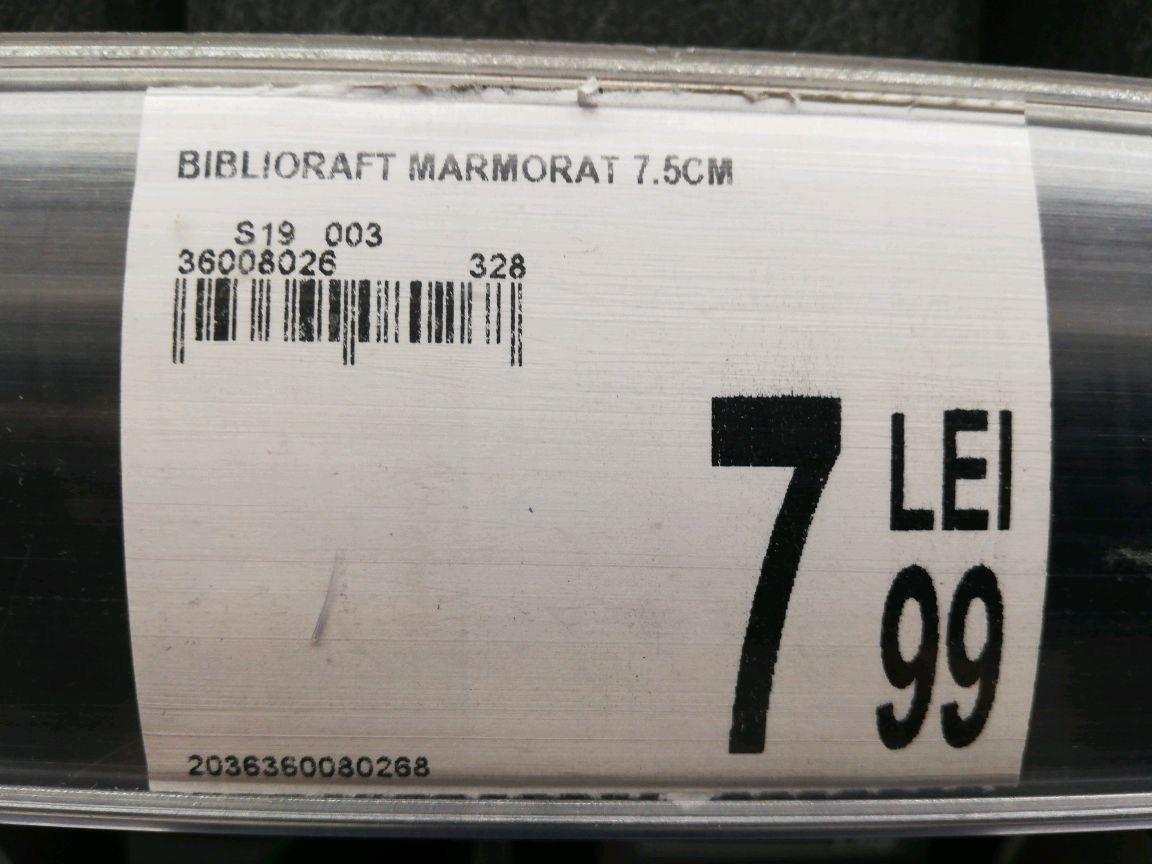price_bani: (865, 554, 1022, 761)
price_lei: (667, 381, 855, 763)
price_tag: (108, 72, 1053, 815)
product_id: (164, 745, 452, 788)
product_name: (161, 141, 748, 201)
